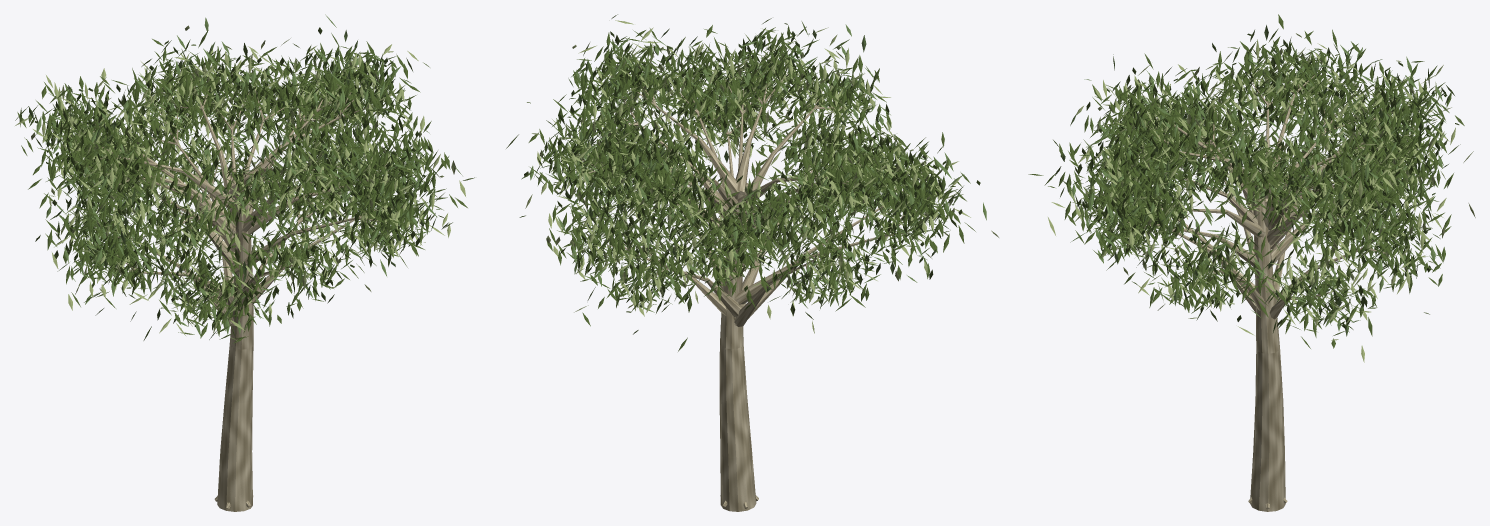
Rendered from mature-eucalypt-b.glb.
The picture shows the model from 3 angles, left to right: view 1: azimuth 30°, elevation 25°; view 2: azimuth 150°, elevation 25°; view 3: azimuth 270°, elevation 25°; orthographic projection.
Visible parts, largest first — view 1: mature-eucalypt-b; view 2: mature-eucalypt-b; view 3: mature-eucalypt-b.
Part boxes in pixels (x1,y1,x2,y2): mature-eucalypt-b: (15,14,474,511); mature-eucalypt-b: (506,14,998,511); mature-eucalypt-b: (1028,14,1475,511).
Size of the model in its own units: 6.13 by 6.38 by 5.75.
Materials: 4 (2 with a texture image).
